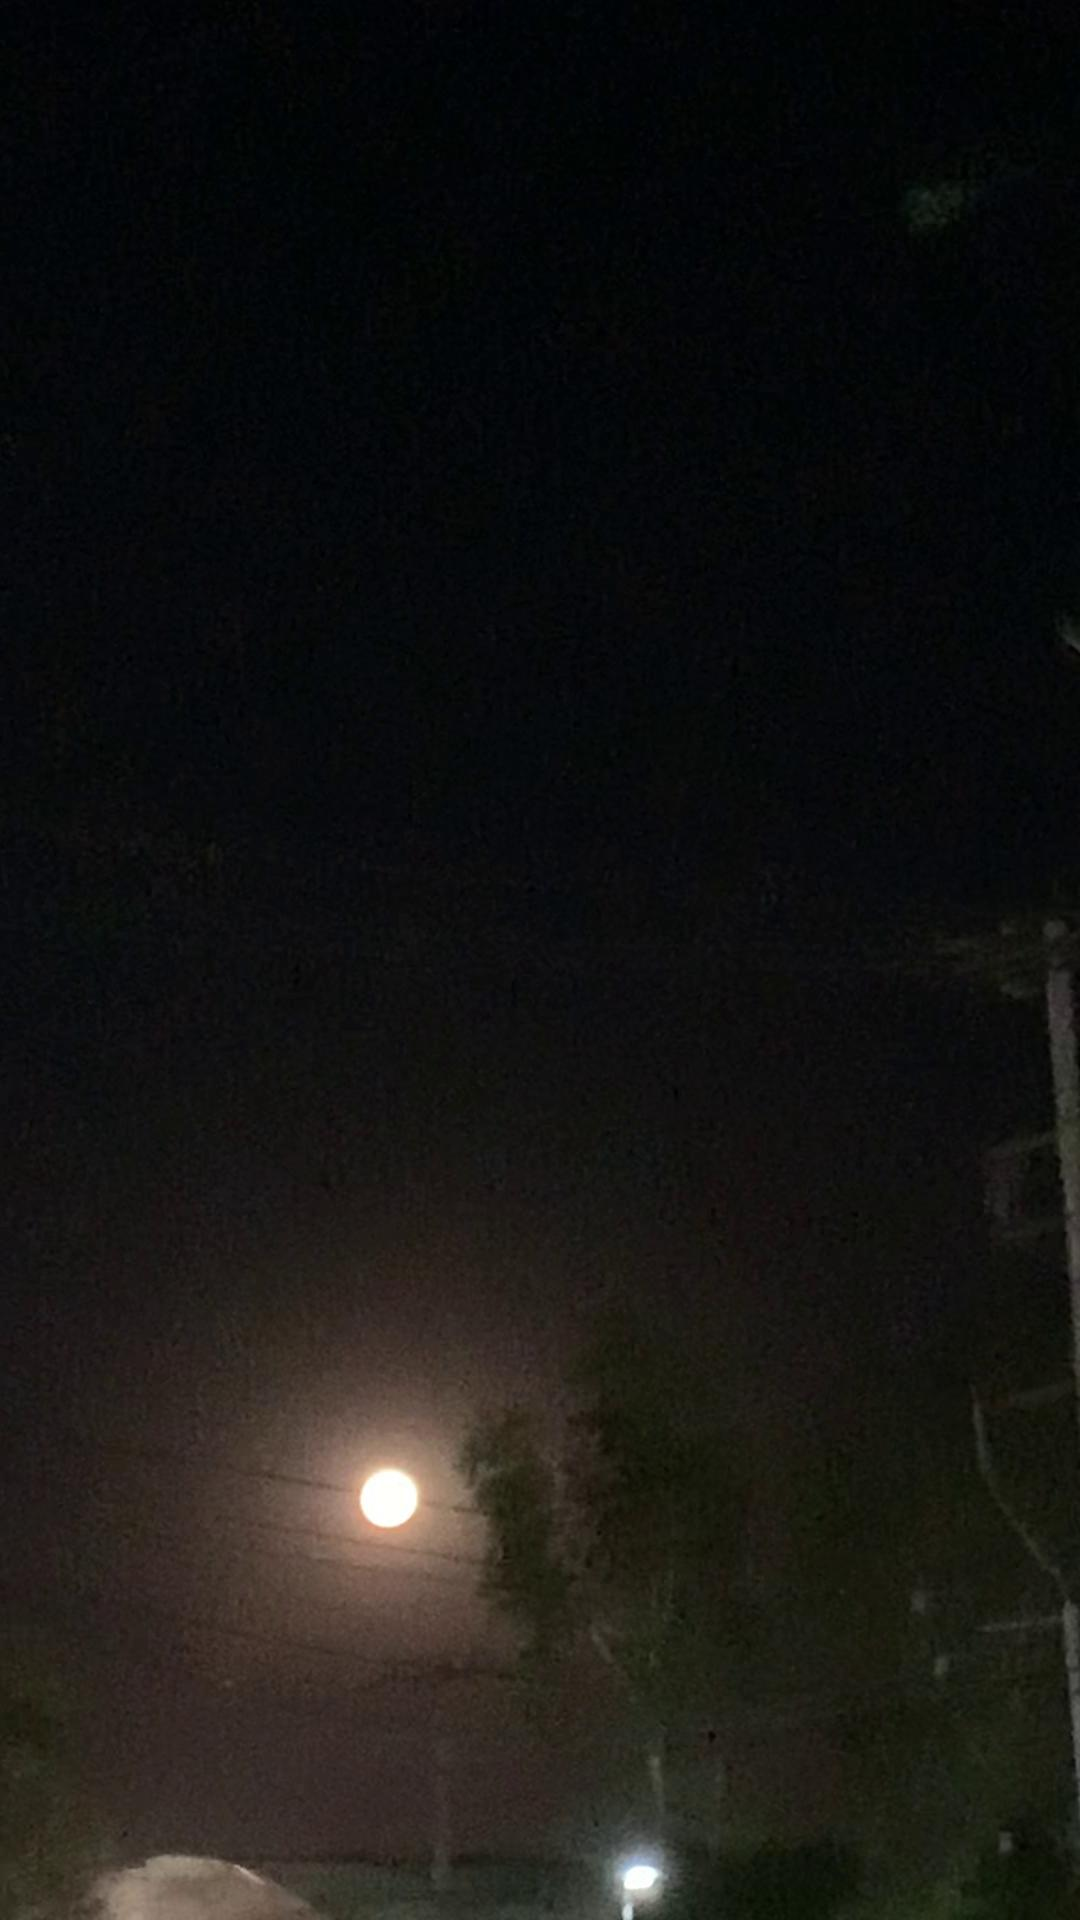moon: (331, 1462, 419, 1538)
